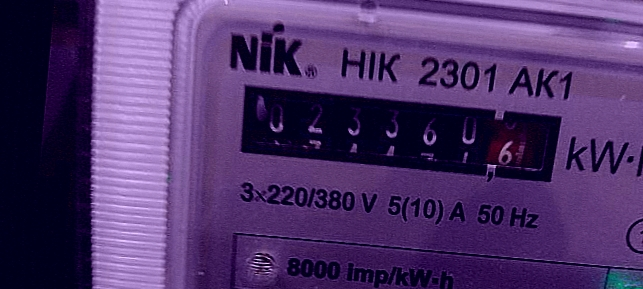0: (264, 96, 289, 133), (457, 110, 482, 147)
2: (304, 98, 328, 135)
3: (343, 102, 366, 138), (382, 104, 403, 139)
6: (419, 110, 442, 146), (495, 132, 516, 167)
screen: (224, 70, 582, 200)
